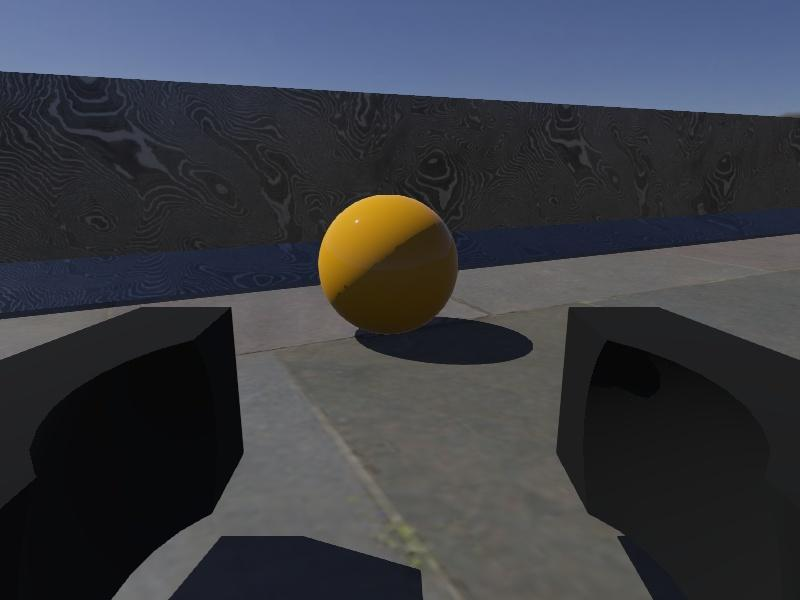orange ball: (318, 194, 459, 336)
